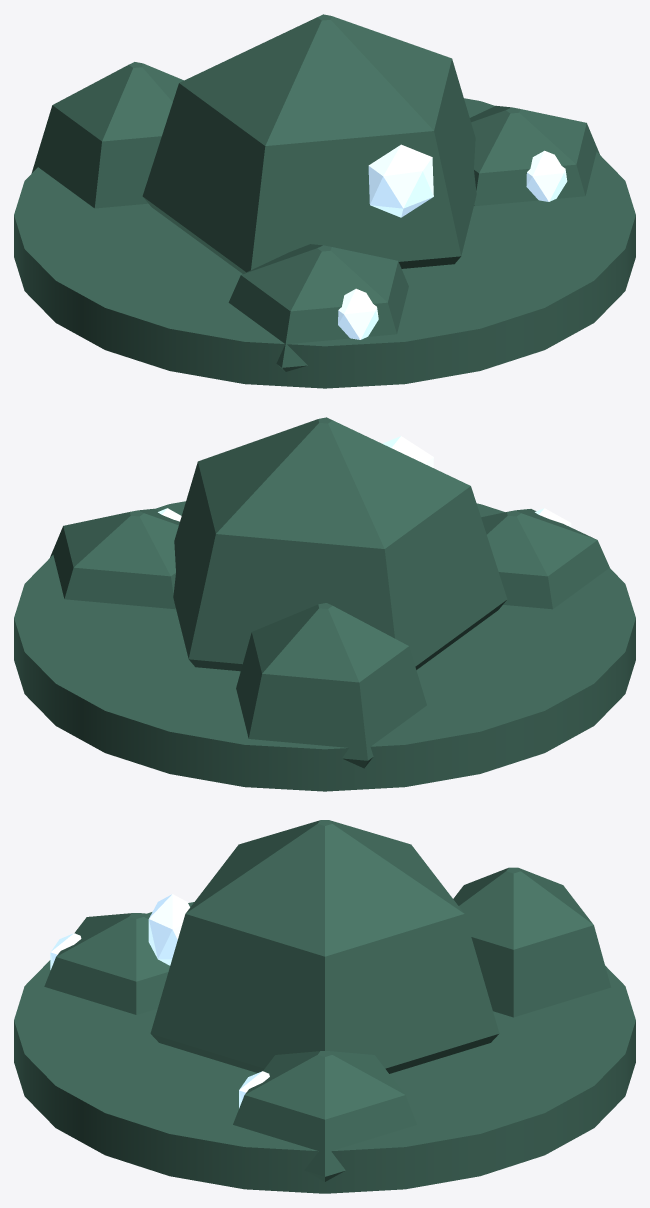
3 views of the same model, one above another, from view 1: azimuth 30°, elevation 25°; view 2: azimuth 150°, elevation 25°; view 3: azimuth 270°, elevation 25° (orthographic).
Visible parts, largest first — view 1: Foundation drum, Faceted crystal tower, Faceted crystal tower.002, Faceted crystal tower.003, Faceted crystal tower.001, Central luminous node, Crystal luminous node, Crystal luminous node.002; view 2: Foundation drum, Faceted crystal tower, Faceted crystal tower.002, Faceted crystal tower.001, Faceted crystal tower.003, Central luminous node; view 3: Foundation drum, Faceted crystal tower, Faceted crystal tower.002, Faceted crystal tower.001, Faceted crystal tower.003, Central luminous node.
Boxes of the visible parts, x1,y1,x2,y2 form: Foundation drum: [14, 98, 635, 388]; Faceted crystal tower: [142, 14, 476, 273]; Faceted crystal tower.002: [31, 62, 183, 208]; Faceted crystal tower.003: [228, 244, 408, 371]; Faceted crystal tower.001: [470, 105, 599, 206]; Central luminous node: [368, 144, 433, 217]; Crystal luminous node: [526, 150, 567, 201]; Crystal luminous node.002: [338, 288, 378, 339]; Foundation drum: [14, 501, 635, 791]; Faceted crystal tower: [173, 417, 507, 671]; Faceted crystal tower.002: [236, 603, 426, 768]; Faceted crystal tower.001: [50, 508, 179, 609]; Faceted crystal tower.003: [481, 509, 609, 609]; Central luminous node: [382, 436, 433, 467]; Foundation drum: [14, 902, 635, 1193]; Faceted crystal tower: [150, 820, 499, 1073]; Faceted crystal tower.002: [453, 867, 610, 1017]; Faceted crystal tower.001: [233, 1051, 416, 1181]; Faceted crystal tower.003: [44, 913, 169, 1014]; Central luminous node: [148, 894, 189, 965].
Bounding box in the file's own units: 2.04 × 0.85 × 2.
